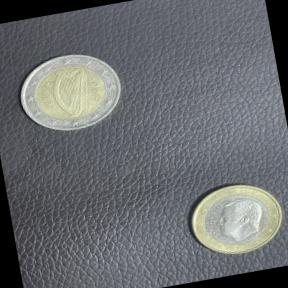coin: (8, 40, 130, 142), (179, 173, 288, 266)
